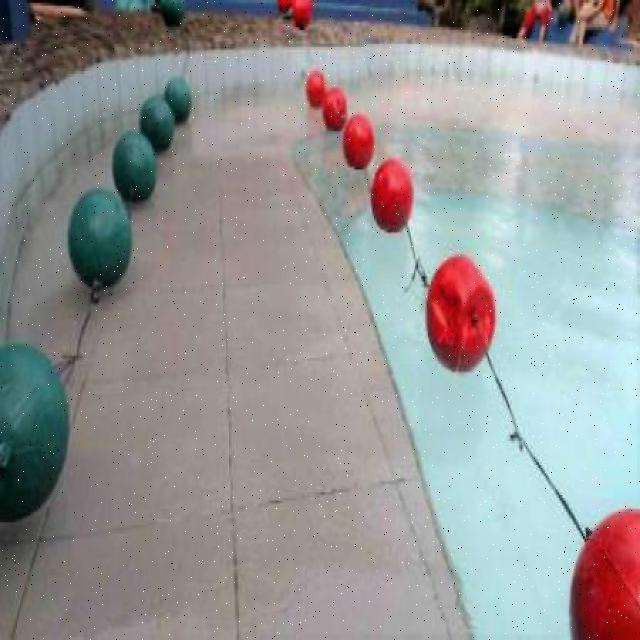buoy: (0, 342, 68, 522), (568, 508, 638, 636), (424, 252, 496, 370), (68, 188, 132, 288), (370, 156, 415, 232), (111, 132, 156, 202), (138, 94, 172, 152), (342, 112, 372, 167), (163, 75, 191, 121), (321, 84, 346, 128), (306, 70, 326, 105)
